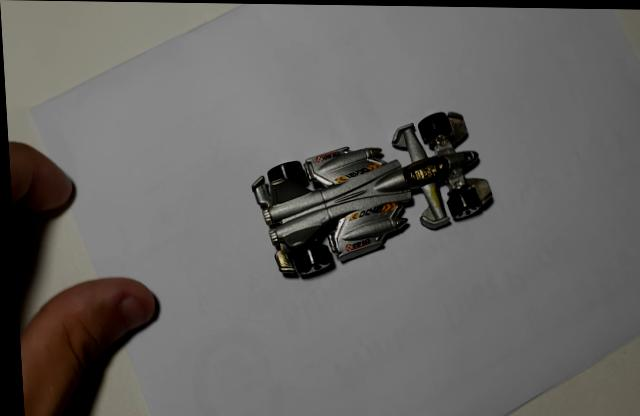05_DC121: (250, 111, 493, 281)
